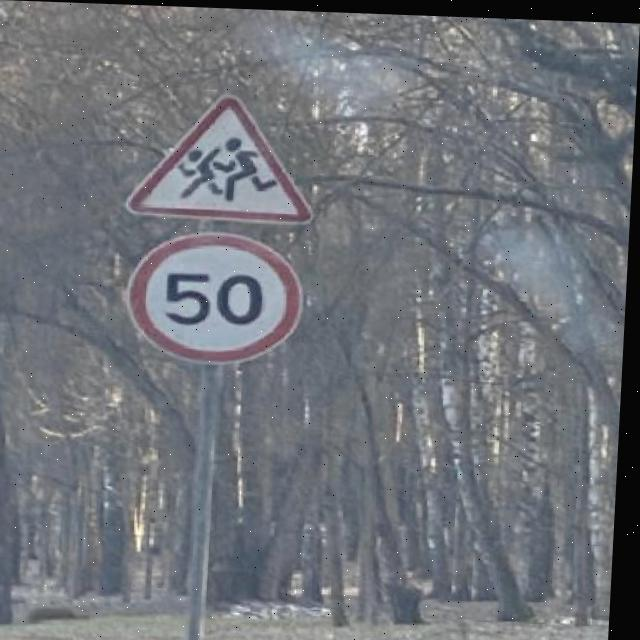Speed limit 50: (123, 225, 312, 369)
